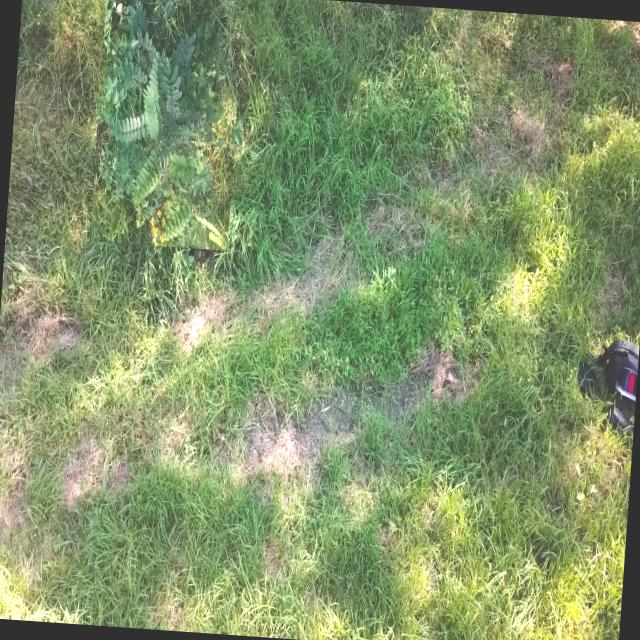Mysore-Thorn-Weed: (89, 0, 244, 250)
